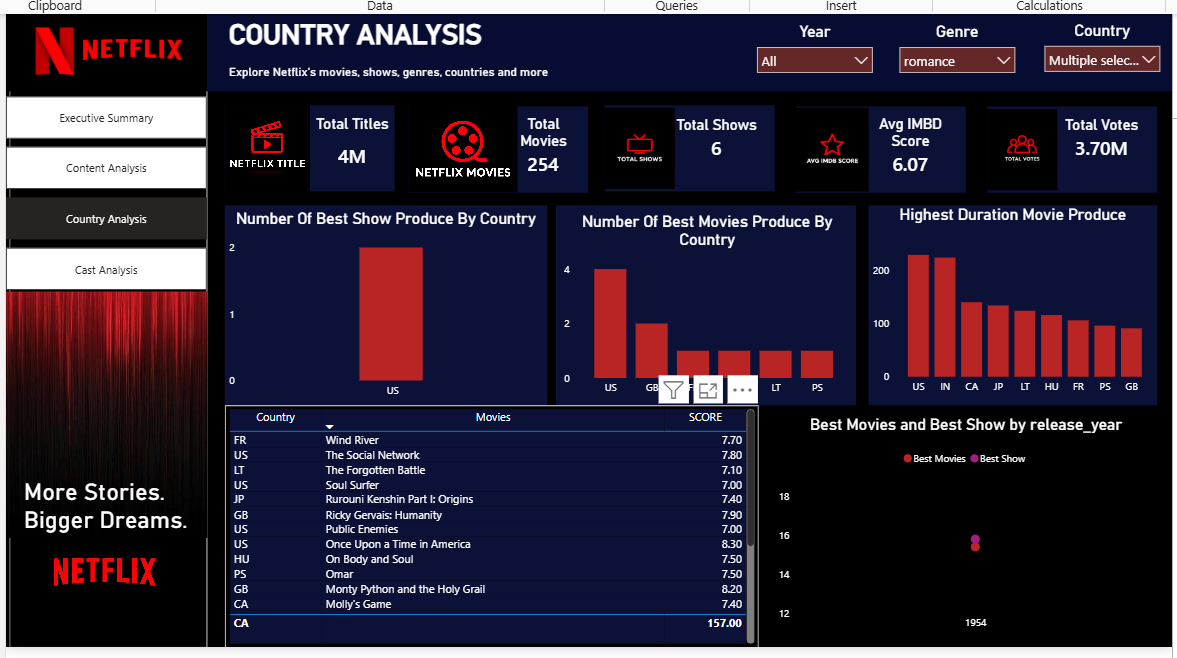

This screenshot's page, from the dashboard's own definition file:
{"tool":"powerbi","page":{"name":"Country Analysis","canvas":[1412,767],"ordinal":2},"visuals":[{"type":"shape","box":[4.5,0,239.2,767.5],"z":0},{"type":"shape","box":[243.7,0,1168.6,93.9],"z":1000},{"type":"textbox","box":[264.9,0,354.2,56],"z":2000},{"type":"textbox","box":[264.9,56,596.4,28.8],"z":3000},{"type":"pageNavigator","box":[0,93.9,243.7,242.2],"z":4000},{"type":"image","box":[0,0,243.7,93.9],"z":5000},{"type":"image","box":[16.7,634.3,205.9,89.3],"z":6000},{"type":"image","box":[0,336,243.7,298.2],"z":7000},{"type":"textbox","box":[16.7,557.1,216.5,210.4],"z":8000},{"type":"shape","box":[264.9,110.5,205.9,104.4],"z":9000},{"type":"shape","box":[725.1,110.5,205.9,104.4],"z":10000},{"type":"shape","box":[487.4,112,218,104.4],"z":11000},{"type":"shape","box":[956.7,112,205.9,104.4],"z":12000},{"type":"shape","box":[1188.3,112,205.9,104.4],"z":13000},{"type":"shape","box":[264.9,231.6,390.5,242.2],"z":14000},{"type":"shape","box":[666,231.6,363.3,242.2],"z":15000},{"type":"shape","box":[1044.5,231.6,349.7,242.2],"z":16000},{"type":"cardVisual","title":"Total Titles","fields":{"Data":["Best Movie by Year Netflix.Total Titles"]},"box":[367.8,122.6,102.9,78.7],"z":17000},{"type":"image","box":[264.9,110.5,102.9,106],"z":18000},{"type":"cardVisual","title":"Total Movies","fields":{"Data":["Best Movie by Year Netflix.Total Movies"]},"box":[596.4,122.6,109,78.7],"z":19000},{"type":"cardVisual","title":"Total Shows","fields":{"Data":["Best Movie by Year Netflix.Total Shows"]},"box":[793.2,124.1,134.7,56],"z":20000},{"type":"cardVisual","title":"Avg IMBD Score","fields":{"Data":["Best Movie by Year Netflix.Average IMDb Score"]},"box":[1027.8,122.6,134.7,78.7],"z":21000},{"type":"cardVisual","title":"Total Votes","fields":{"Data":["Best Movie by Year Netflix.Total Votes"]},"box":[1259.4,124.1,134.7,56],"z":22000},{"type":"image","box":[487.4,110.5,131.7,106],"z":23000},{"type":"image","box":[725.1,113.5,84.8,98.4],"z":24000},{"type":"image","box":[956.7,113.5,87.8,101.4],"z":25000},{"type":"image","box":[1188.3,115,84.8,98.4],"z":26000},{"type":"clusteredColumnChart","title":"Number Of Best Show Produce By Country","fields":{"Category":["Best Movie by Year Netflix.MAIN_PRODUCTION"],"Y":["CountNonNull(Best Show by Year Netflix.TITLE)"]},"box":[264.9,236.1,390.5,237.7],"z":27000},{"type":"columnChart","title":"Number Of Best Movies Produce By Country ","fields":{"Category":["Best Movies Netflix.MAIN_PRODUCTION"],"Y":["CountNonNull(Best Movies Netflix.TITLE)"]},"box":[670.6,240.7,357.2,230.1],"z":28000},{"type":"slicer","title":"Year","fields":{"Values":["Best Movie by Year Netflix.RELEASE_YEAR"]},"box":[899.2,10.6,160.5,74.2],"z":29000},{"type":"slicer","title":"Genre","fields":{"Values":["raw_titles.genres.2"]},"box":[1071.7,10.6,160.5,74.2],"z":30000},{"type":"slicer","title":"Country","fields":{"Values":["Best Movie by Year Netflix.MAIN_PRODUCTION"]},"box":[1247.3,9.1,160.5,74.2],"z":31000},{"type":"lineChart","fields":{"Category":["raw_titles.release_year"],"Y":["Sum(Best Movie by Year Netflix.SCORE)"],"Y2":["Sum(Best Show by Year Netflix.SCORE)"]},"box":[930.9,485.9,463.2,269.4],"z":32000},{"type":"clusteredColumnChart","title":"Highest Duration Movie Produce ","fields":{"Category":["Best Movies Netflix.MAIN_PRODUCTION"],"Y":["Max(Best Movies Netflix.DURATION)"]},"box":[1044.5,231.6,349.7,237.7],"z":33000},{"type":"pageNavigator","box":[0,99.9,243.7,236.1],"z":34000},{"type":"tableEx","fields":{"Values":["Best Movies Netflix.MAIN_PRODUCTION","Best Movies Netflix.TITLE","Sum(Best Movies Netflix.SCORE)"]},"box":[264.9,473.8,646.4,293.7],"z":35000}]}

Visuals, with their boxes on the page's 1412x767 design canvas (x1, y1, x2, y2). These are canvas units, not pixel positions in the 1177x658 screenshot, which may show the page scaled, cropped or inside an application window:
shape: box=[4, 0, 244, 768]
shape: box=[244, 0, 1412, 94]
textbox: box=[265, 0, 619, 56]
textbox: box=[265, 56, 861, 85]
pageNavigator: box=[0, 94, 244, 336]
image: box=[0, 0, 244, 94]
image: box=[17, 634, 223, 724]
image: box=[0, 336, 244, 634]
textbox: box=[17, 557, 233, 768]
shape: box=[265, 110, 471, 215]
shape: box=[725, 110, 931, 215]
shape: box=[487, 112, 705, 216]
shape: box=[957, 112, 1163, 216]
shape: box=[1188, 112, 1394, 216]
shape: box=[265, 232, 655, 474]
shape: box=[666, 232, 1029, 474]
shape: box=[1044, 232, 1394, 474]
"Total Titles" cardVisual: box=[368, 123, 471, 201]
image: box=[265, 110, 368, 216]
"Total Movies" cardVisual: box=[596, 123, 705, 201]
"Total Shows" cardVisual: box=[793, 124, 928, 180]
"Avg IMBD Score" cardVisual: box=[1028, 123, 1162, 201]
"Total Votes" cardVisual: box=[1259, 124, 1394, 180]
image: box=[487, 110, 619, 216]
image: box=[725, 114, 810, 212]
image: box=[957, 114, 1044, 215]
image: box=[1188, 115, 1273, 213]
"Number Of Best Show Produce By Country" clusteredColumnChart: box=[265, 236, 655, 474]
"Number Of Best Movies Produce By Country " columnChart: box=[671, 241, 1028, 471]
"Year" slicer: box=[899, 11, 1060, 85]
"Genre" slicer: box=[1072, 11, 1232, 85]
"Country" slicer: box=[1247, 9, 1408, 83]
lineChart - raw_titles.release_year x Sum(Best Movie by Year Netflix.SCORE): box=[931, 486, 1394, 755]
"Highest Duration Movie Produce " clusteredColumnChart: box=[1044, 232, 1394, 469]
pageNavigator: box=[0, 100, 244, 336]
tableEx - Best Movies Netflix.MAIN_PRODUCTION x Best Movies Netflix.TITLE: box=[265, 474, 911, 768]
